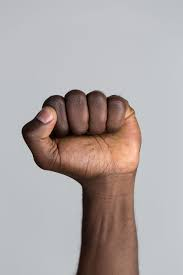fist: (20, 86, 148, 187)
